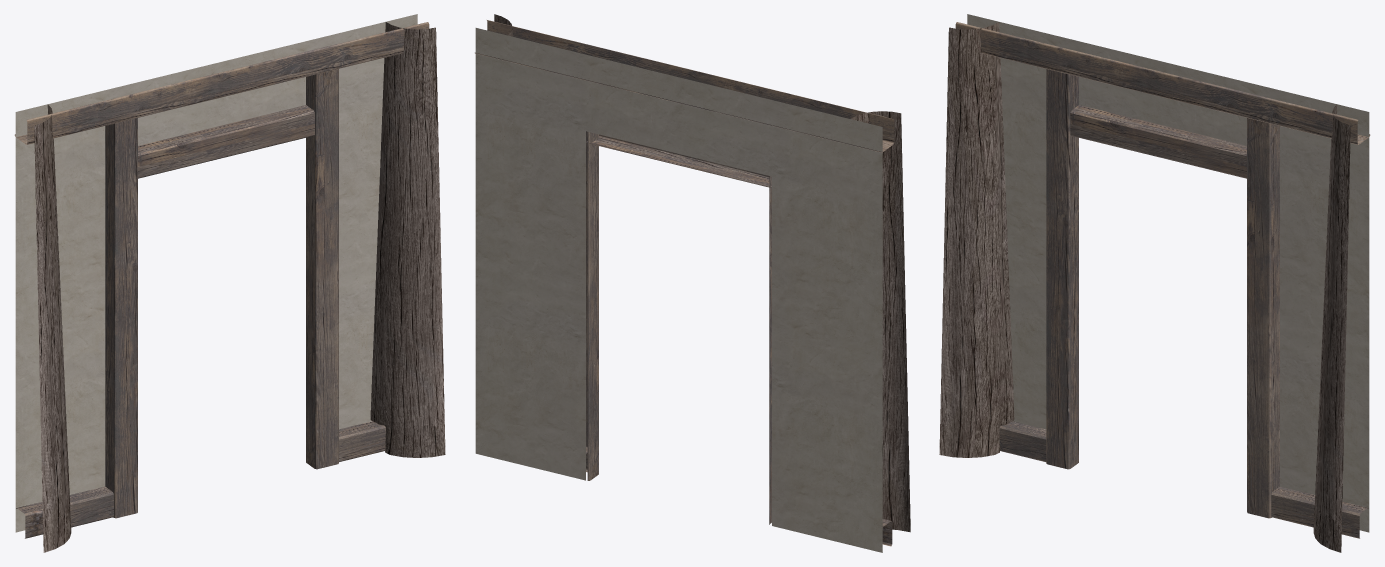
Rendered from IntWall01door.FBX.
3 views of the same model, side by side, from view 1: azimuth 30°, elevation 25°; view 2: azimuth 150°, elevation 25°; view 3: azimuth 330°, elevation 25° (orthographic).
Visible parts, largest first — view 1: IntWall01door; view 2: IntWall01door; view 3: IntWall01door.
Boxes of the visible parts, left/top/right/bottom form: IntWall01door: left=14, top=14, right=445, bottom=552; IntWall01door: left=475, top=14, right=910, bottom=552; IntWall01door: left=939, top=14, right=1370, bottom=552.
Bounding box in the file's own units: 98.43 × 12.37 × 98.43.
